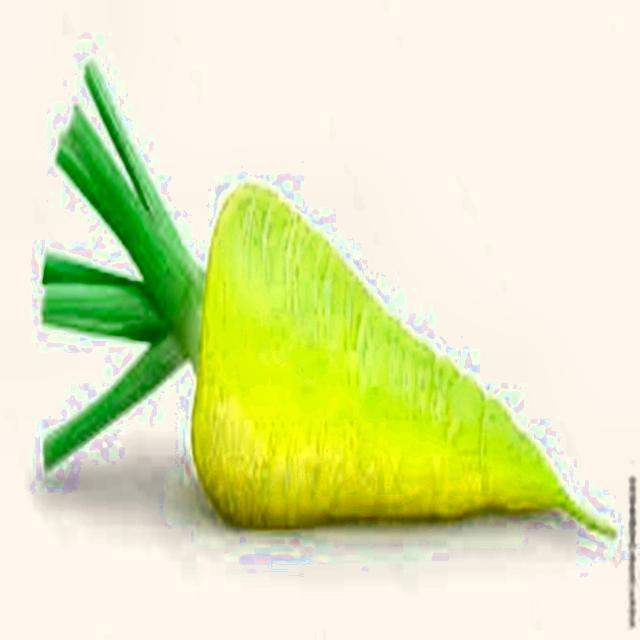carrot: (42, 62, 614, 534)
